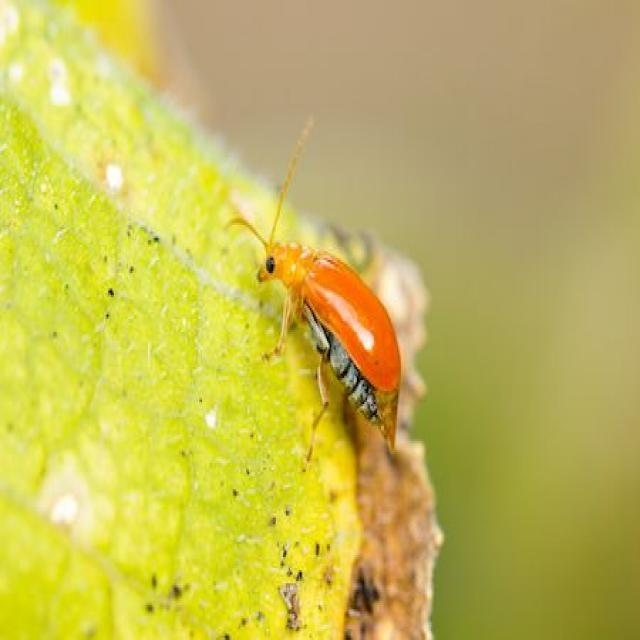Pumpkin Beetle: (223, 112, 402, 466)
